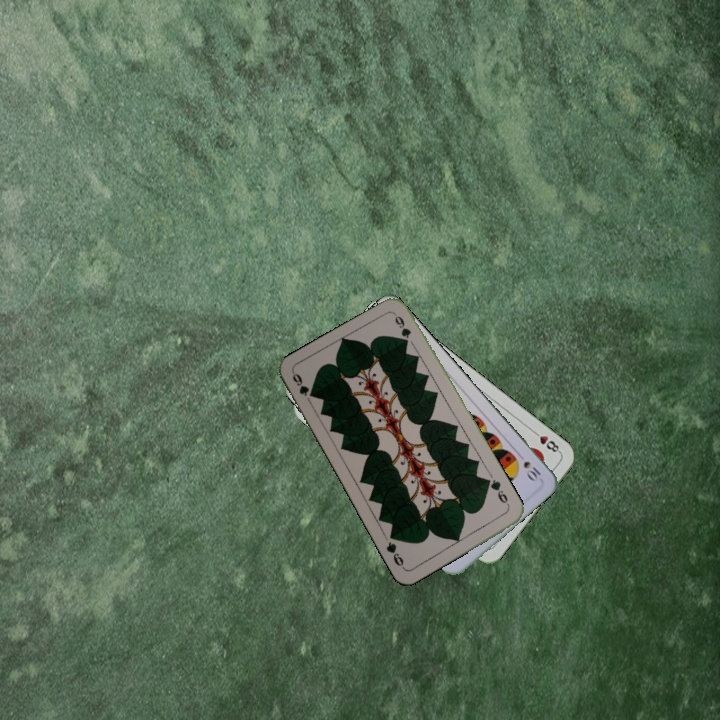G9: (483, 475, 512, 510), (288, 369, 316, 400)
H8: (528, 426, 563, 456)
S10: (519, 457, 544, 484)
